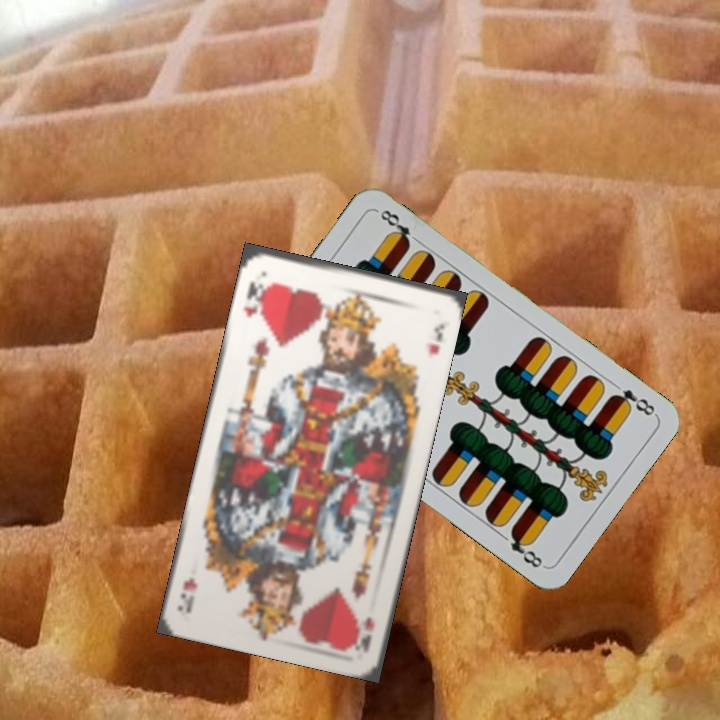E8: (607, 385, 658, 419)
HK: (239, 277, 270, 319), (356, 613, 377, 654)
